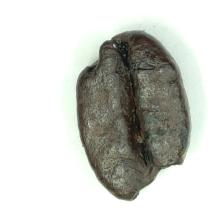NG: (123, 156, 187, 201), (79, 38, 116, 81)
